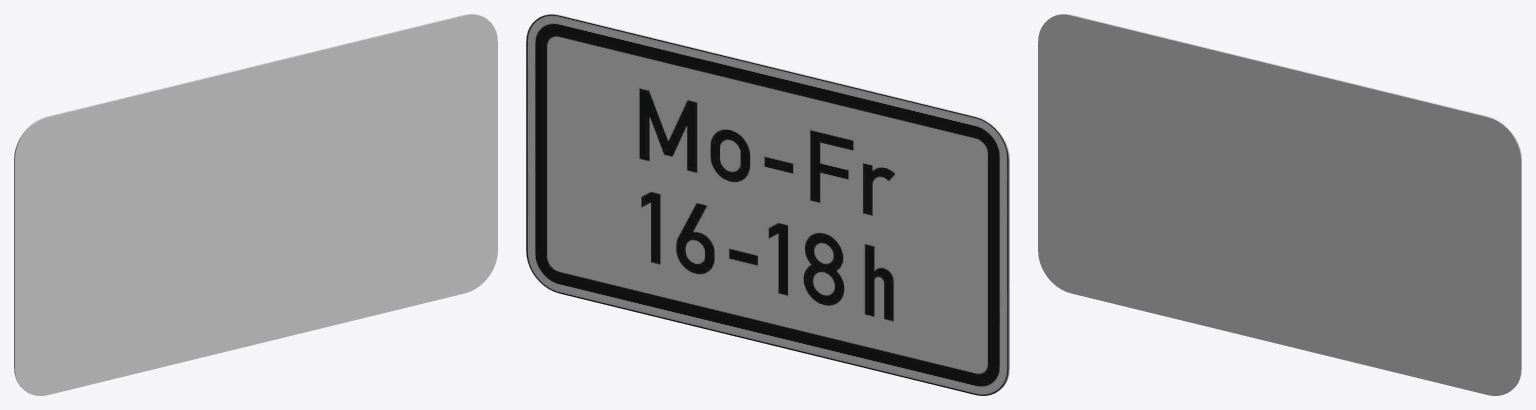
3 views of the same model, side by side, from view 1: azimuth 30°, elevation 25°; view 2: azimuth 150°, elevation 25°; view 3: azimuth 330°, elevation 25° (orthographic).
Visible parts, largest first — view 1: Plane; view 2: Plane; view 3: Plane.
Boxes of the visible parts, bbox=[...] form: Plane: bbox=[14, 14, 497, 395]; Plane: bbox=[526, 14, 1009, 395]; Plane: bbox=[1038, 14, 1521, 395].
Bounding box in the file's own units: 0.6 × 0.33 × 0.002.
2 materials, 1 textured.
